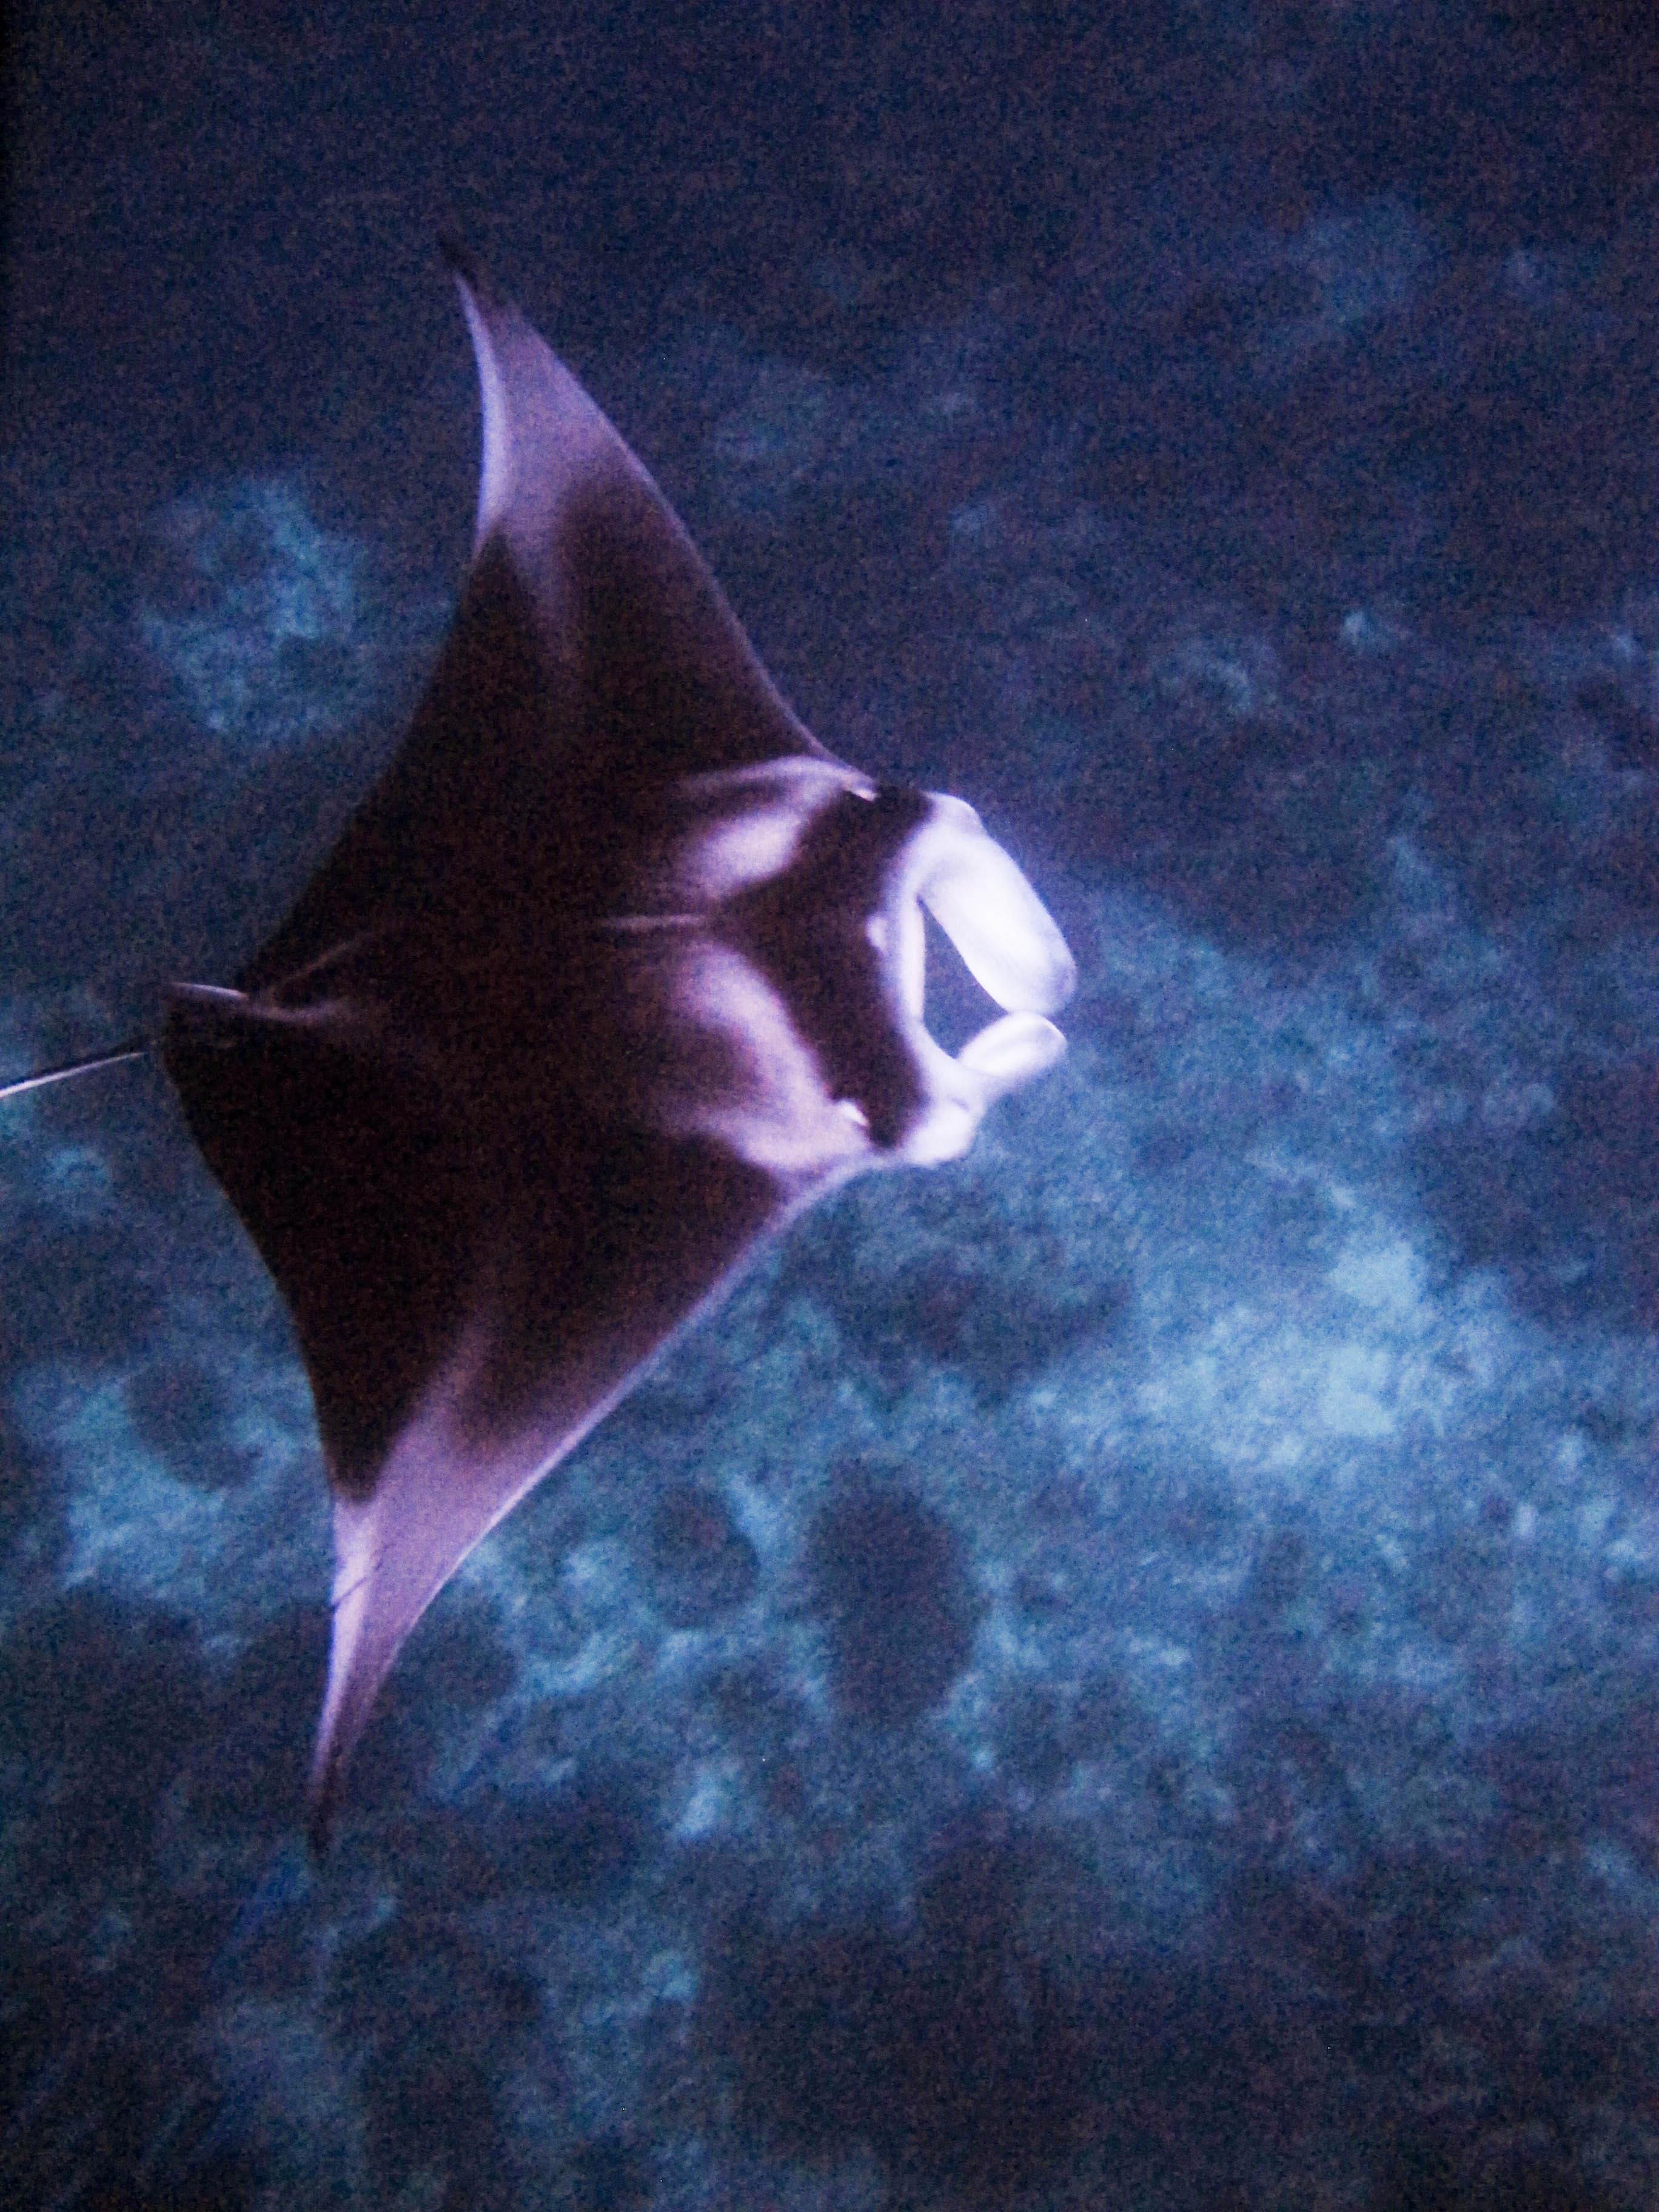Fish: (44, 226, 1105, 1879)
